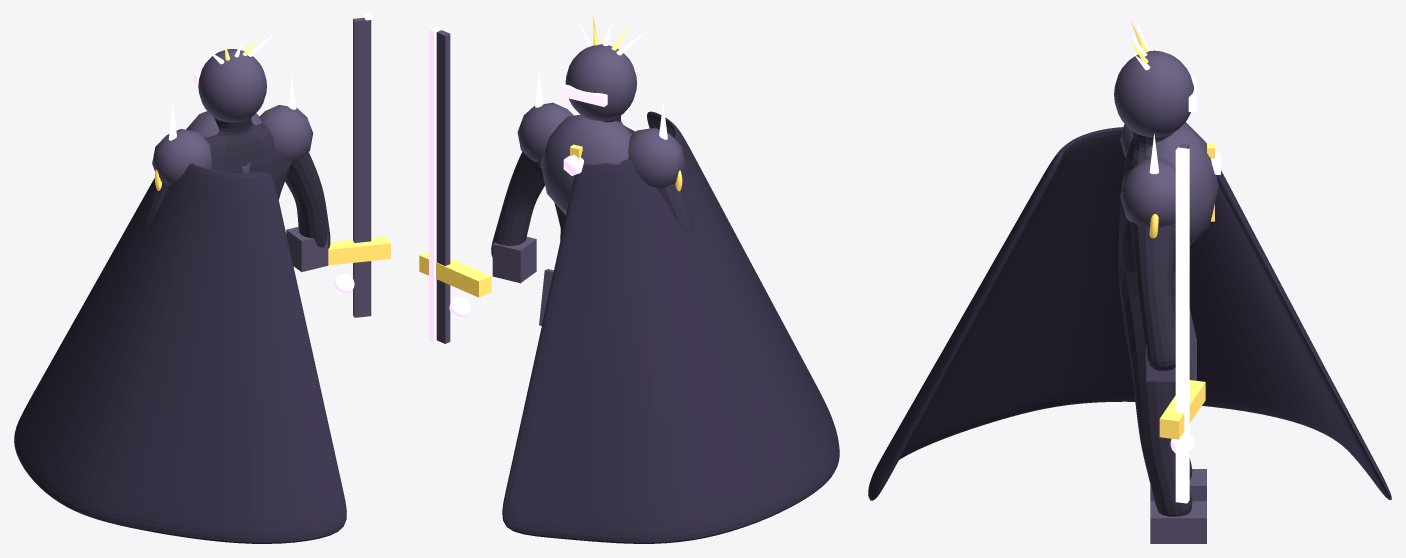
Rendered from kaelis.glb.
The picture shows the model from 3 angles, left to right: view 1: azimuth 30°, elevation 25°; view 2: azimuth 150°, elevation 25°; view 3: azimuth 270°, elevation 25°; orthographic projection. The views are drawn at different scales.
Visible parts, largest first — view 1: cloak, kaelis_body, Cube.011, Sphere, Icosphere.001, Icosphere.002, Cube.013, Cube.008, Icosphere, Cube.012; view 2: cloak, Cube.011, Icosphere, kaelis_body, Sphere, Icosphere.001, Cube.012, Icosphere.002, Cube.008, Cube.013, Cube.010; view 3: cloak, kaelis_body, Sphere, Cube.012, Icosphere, Icosphere.002, Cube.009, Cube.013.
Part boxes in pixels (<box>): cloak: <box>14,163,346,543</box>; kaelis_body: <box>141,117,330,248</box>; Cube.011: <box>353,18,371,317</box>; Sphere: <box>198,49,266,122</box>; Icosphere.001: <box>152,129,212,185</box>; Icosphere.002: <box>259,105,313,162</box>; Cube.013: <box>328,236,390,265</box>; Cube.008: <box>286,226,328,271</box>; Icosphere: <box>186,111,261,172</box>; Cube.012: <box>363,14,372,317</box>; cloak: <box>502,111,839,543</box>; Cube.011: <box>436,30,450,343</box>; Icosphere: <box>540,114,631,214</box>; kaelis_body: <box>491,115,692,256</box>; Sphere: <box>565,44,636,120</box>; Icosphere.001: <box>628,127,684,187</box>; Cube.012: <box>429,26,441,342</box>; Icosphere.002: <box>517,102,573,161</box>; Cube.008: <box>492,237,536,283</box>; Cube.013: <box>419,251,491,297</box>; Cube.010: <box>561,84,607,106</box>; cloak: <box>868,127,1391,500</box>; kaelis_body: <box>1118,131,1192,516</box>; Sphere: <box>1114,50,1193,137</box>; Cube.012: <box>1175,147,1189,503</box>; Icosphere: <box>1122,122,1218,245</box>; Icosphere.002: <box>1120,159,1175,227</box>; Cube.009: <box>1150,501,1206,543</box>; Cube.013: <box>1159,380,1205,439</box>.
Size of the model in its own units: 2.4 by 2.67 by 2.59.
